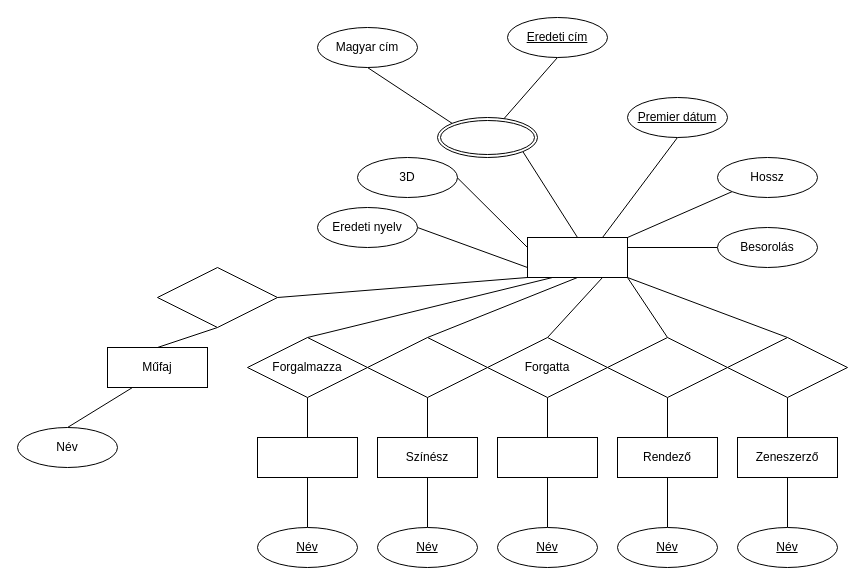
The diagram is 865 pixels wide and 585 high, and some of its shapes have lost their labels. The centre of each missing label's shape, as x and y in pixels:
Cím: the point at 487,137
Film: the point at 577,257
Forgalmazó: the point at 307,457
Játszott benne: the point at 427,367
Műfaja: the point at 217,297
Operatőr: the point at 547,457
Rendezte: the point at 667,367
Zenéjét szerezte: the point at 787,367
